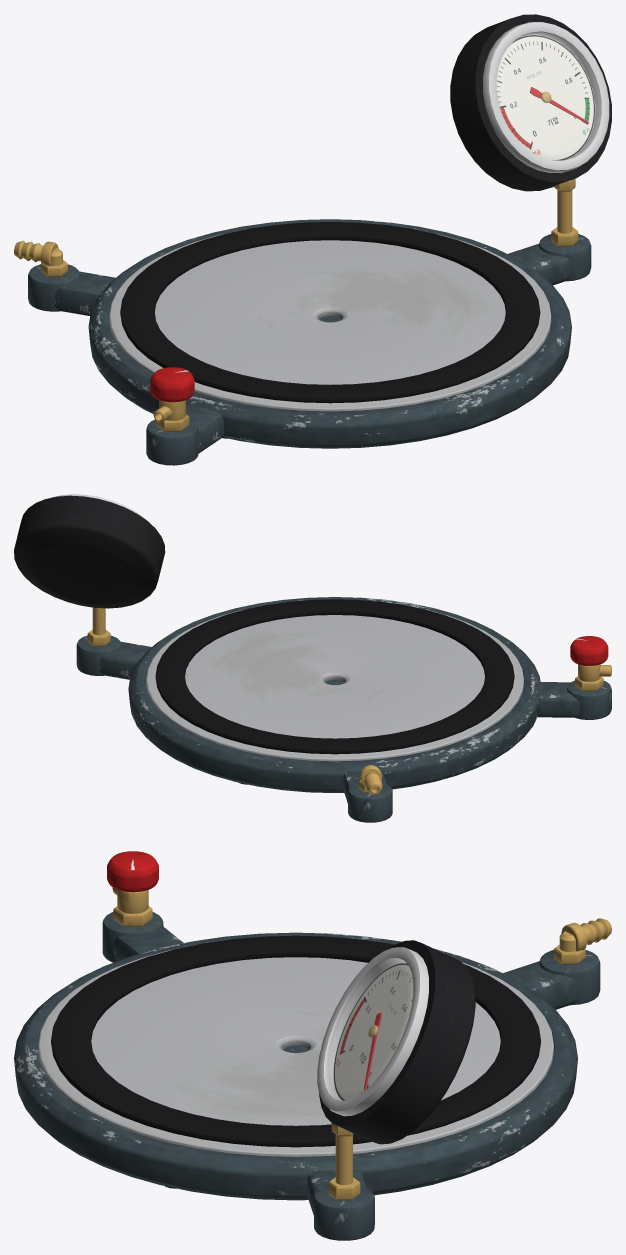
Rendered from plate.glb.
3 views of the same model, one above another, from view 1: azimuth 30°, elevation 25°; view 2: azimuth 150°, elevation 25°; view 3: azimuth 270°, elevation 25° (orthographic). The views are drawn at different scales.
Visible parts, largest first — view 1: plate_top, plate_body, plate_gasket, gauge_lens, gauge_dial, gauge, gauge_bezel, valve_knob, gauge_stem, hose, valve_body; view 2: plate_top, plate_body, plate_gasket, gauge, valve_knob, valve_body, gauge_stem, hose; view 3: plate_top, plate_body, plate_gasket, gauge, gauge_lens, gauge_dial, gauge_bezel, valve_knob, hose, gauge_stem, valve_body.
Boxes of the visible parts, x1=… form: plate_top: x1=109, y1=233, x2=551, y2=411; plate_body: x1=28, y1=219, x2=591, y2=465; plate_gasket: x1=120, y1=222, x2=540, y2=438; gauge_lens: x1=497, y1=32, x2=600, y2=160; gauge_dial: x1=496, y1=34, x2=595, y2=160; gauge: x1=450, y1=14, x2=611, y2=191; gauge_bezel: x1=483, y1=22, x2=609, y2=173; valve_knob: x1=150, y1=367, x2=194, y2=402; gauge_stem: x1=551, y1=178, x2=578, y2=246; hose: x1=14, y1=240, x2=67, y2=276; valve_body: x1=153, y1=400, x2=189, y2=431; plate_top: x1=146, y1=606, x2=523, y2=761; plate_body: x1=76, y1=597, x2=611, y2=822; plate_gasket: x1=155, y1=599, x2=514, y2=784; gauge: x1=14, y1=495, x2=165, y2=608; valve_knob: x1=570, y1=636, x2=608, y2=665; valve_body: x1=575, y1=664, x2=611, y2=691; gauge_stem: x1=87, y1=607, x2=110, y2=646; hose: x1=359, y1=765, x2=382, y2=794; plate_top: x1=38, y1=944, x2=553, y2=1156; plate_body: x1=14, y1=912, x2=600, y2=1240; plate_gasket: x1=51, y1=935, x2=540, y2=1188; gauge: x1=319, y1=940, x2=475, y2=1144; gauge_lens: x1=325, y1=958, x2=412, y2=1100; gauge_dial: x1=333, y1=963, x2=413, y2=1100; gauge_bezel: x1=317, y1=947, x2=428, y2=1116; valve_knob: x1=107, y1=851, x2=158, y2=892; hose: x1=553, y1=918, x2=611, y2=964; gauge_stem: x1=328, y1=1123, x2=360, y2=1200; valve_body: x1=112, y1=888, x2=152, y2=926.
Bounding box in the file's own units: 0.4122 × 0.1662 × 0.3203.
Materials: 10 (6 with a texture image).
